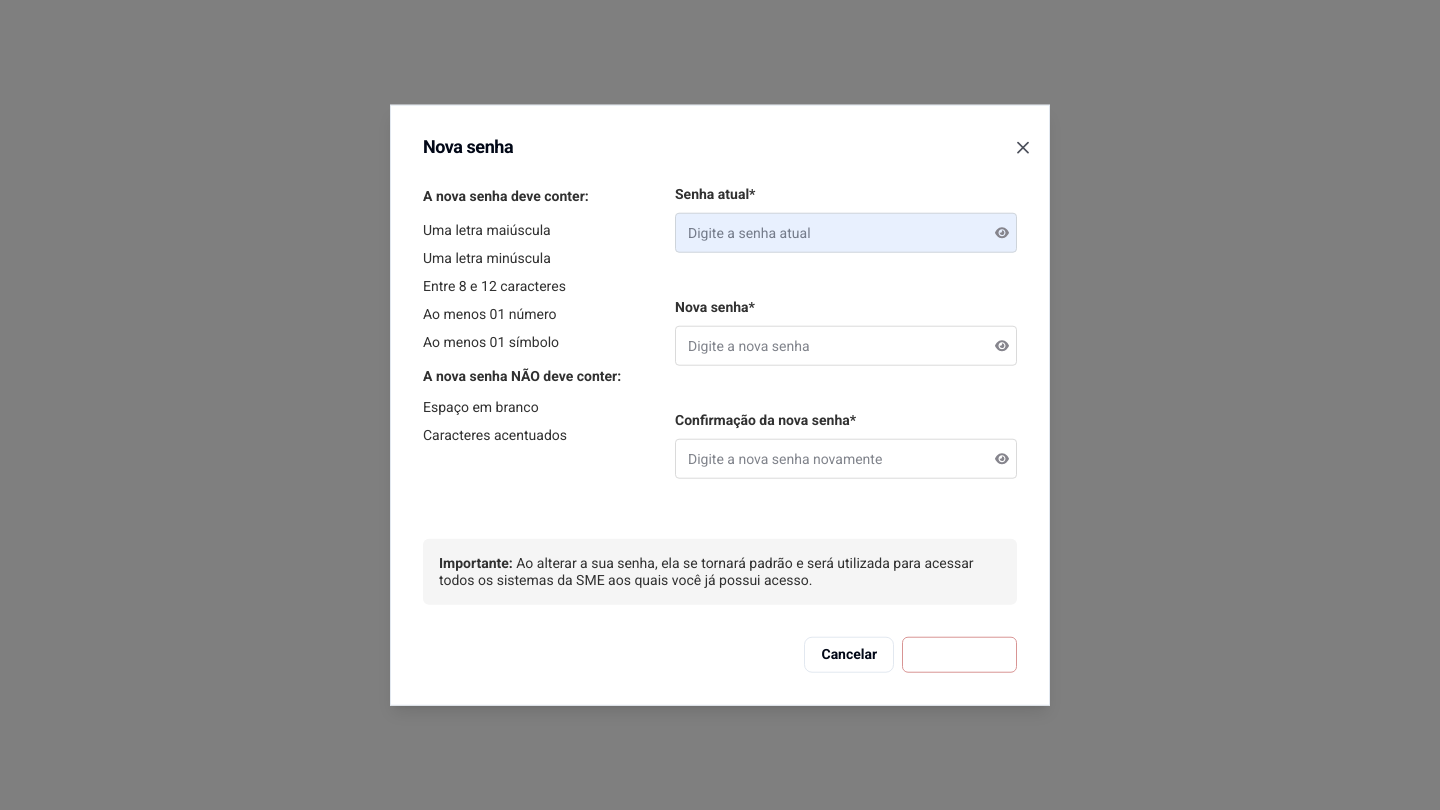
Test: ModalNovaSenha › realiza o submit e exibe a mensagem de erro retornada pela api
Type "senha-errada" into the password field with placeholder "Digite a senha atual".
click(846, 233); type("senha-errada")  # box [675, 213, 1017, 253]
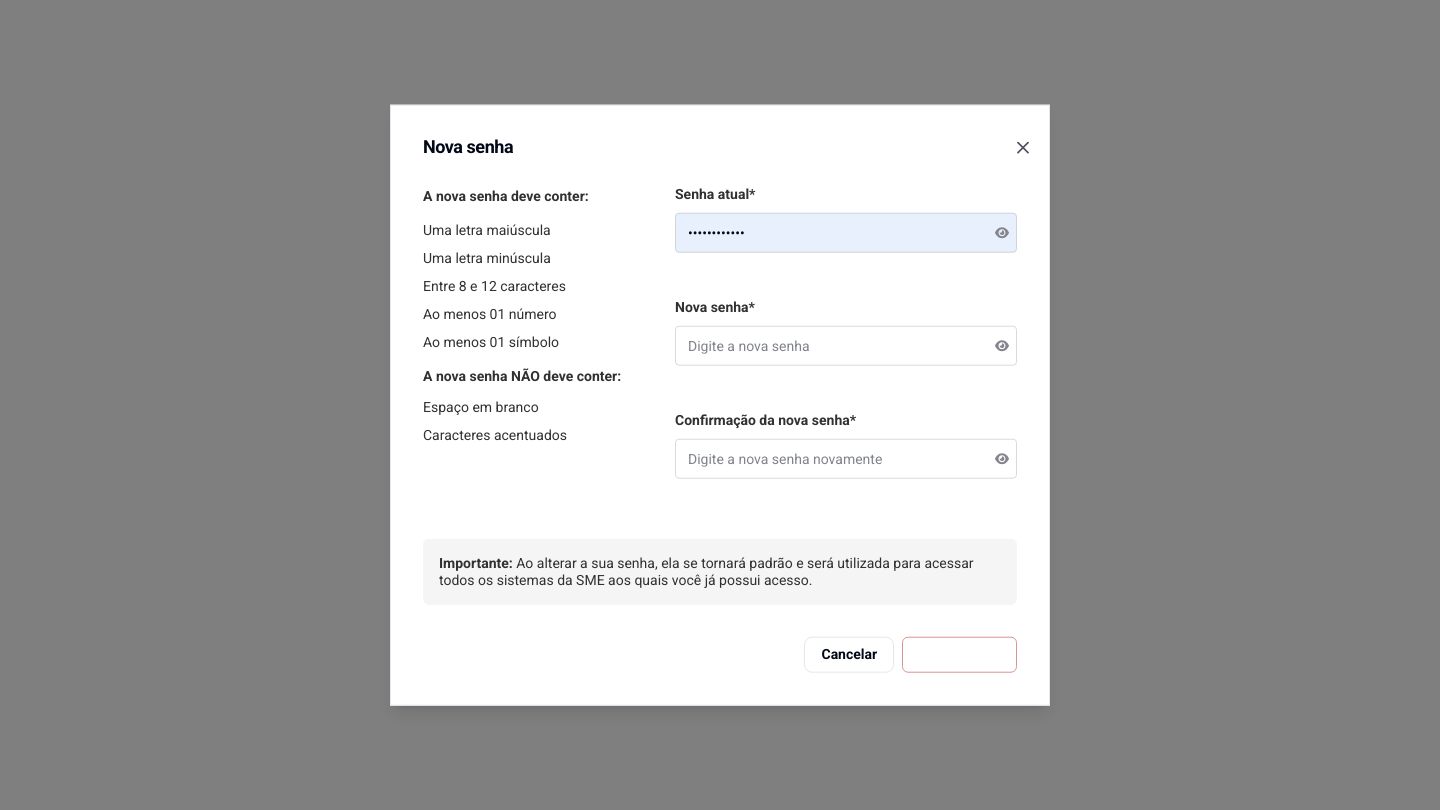
Type "Senha123!" into the password field with placeholder "Digite a nova senha".
click(846, 346); type("Senha123!")  # box [675, 326, 1017, 366]
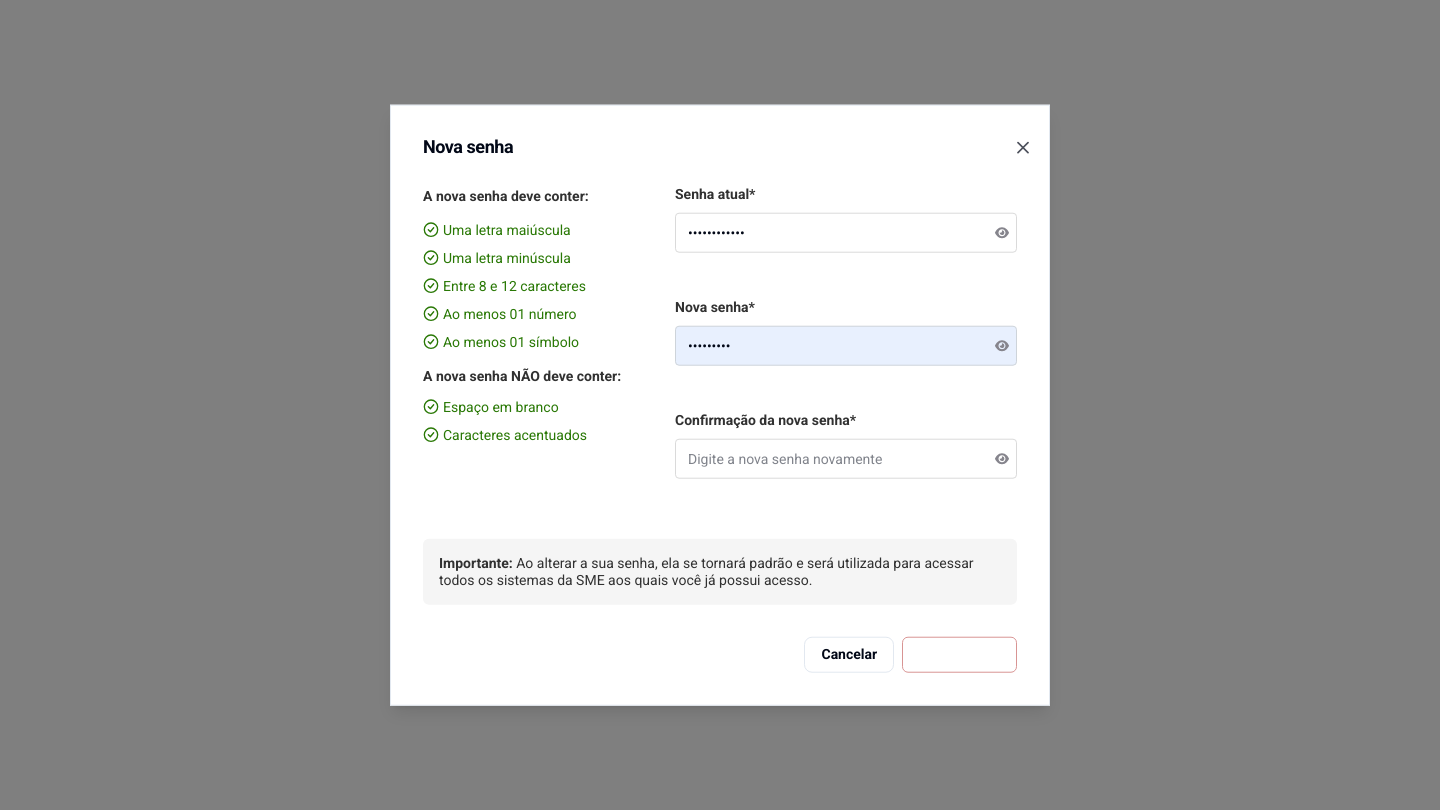
Type "Senha123!" into the password field with placeholder "Digite a nova senha novamente".
click(846, 459); type("Senha123!")  # box [675, 439, 1017, 479]
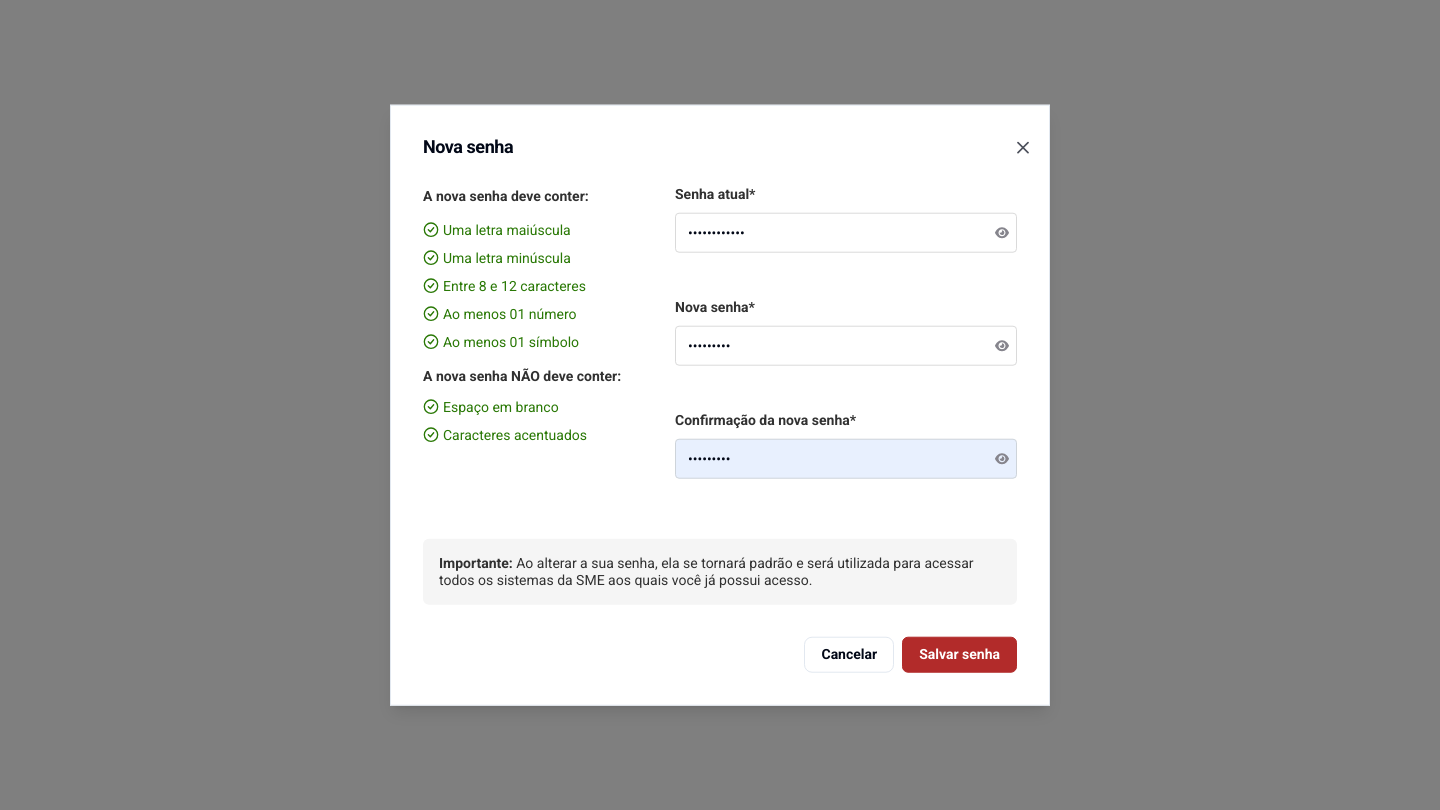
Click the button "Salvar senha".
click(960, 654)  # box [902, 636, 1017, 672]
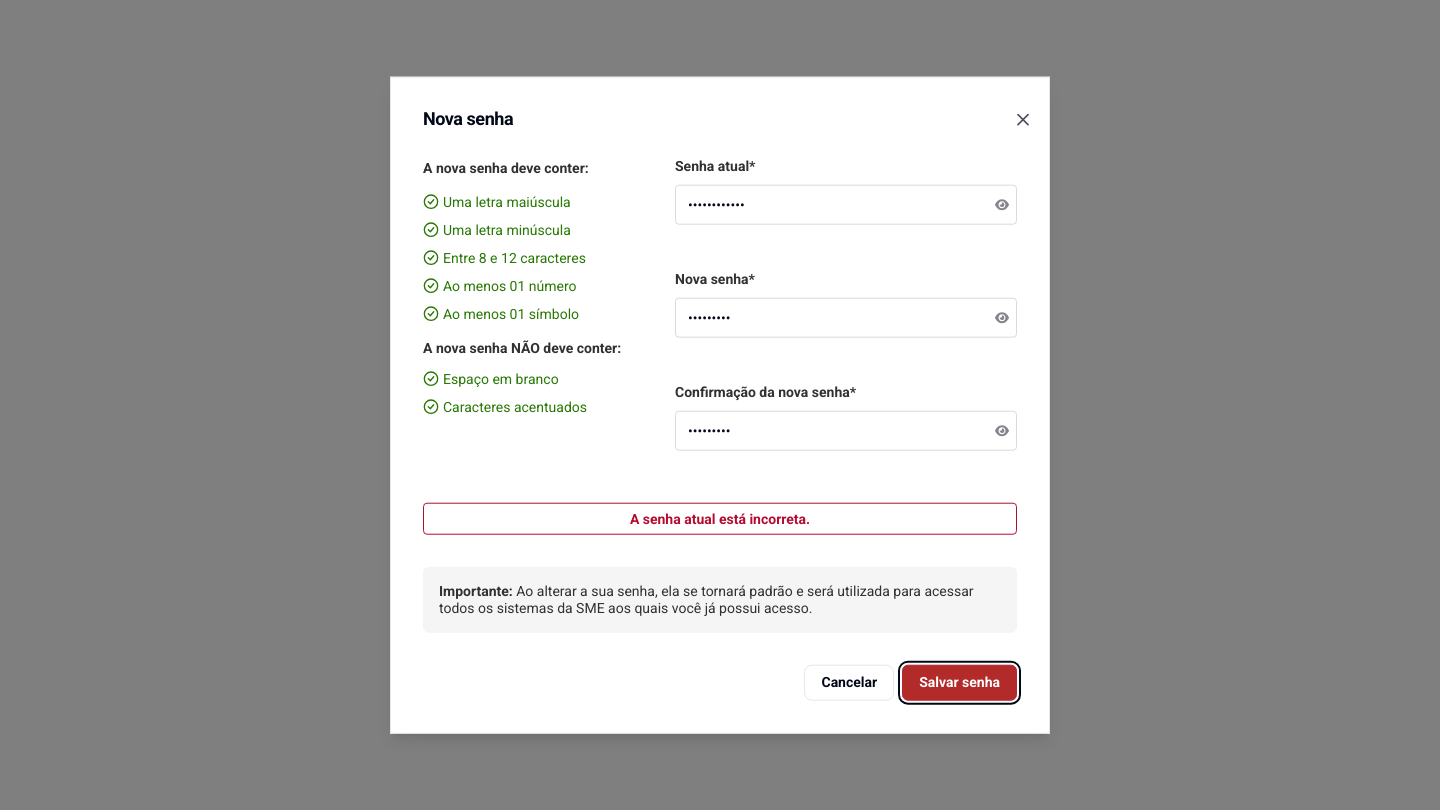
Check: the text "A senha atual está incorreta." is shown, box [423, 503, 1017, 535]
